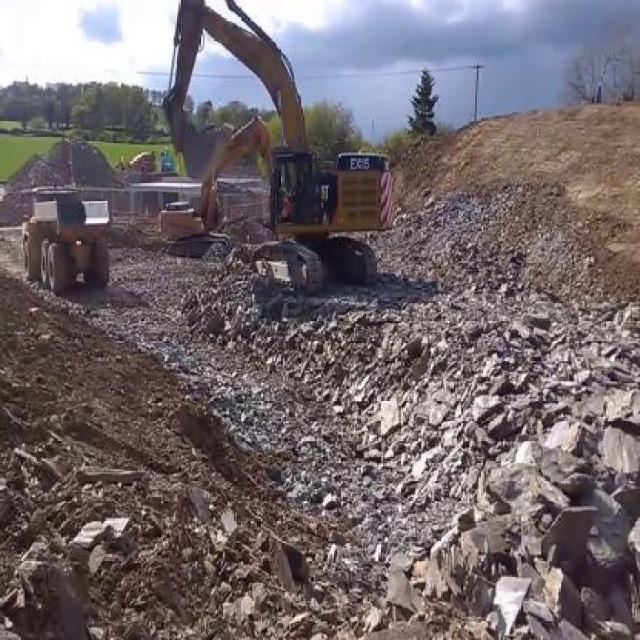dump_truck: (17, 188, 111, 297)
excavator: (160, 2, 402, 296), (163, 123, 268, 268), (158, 141, 182, 176)
